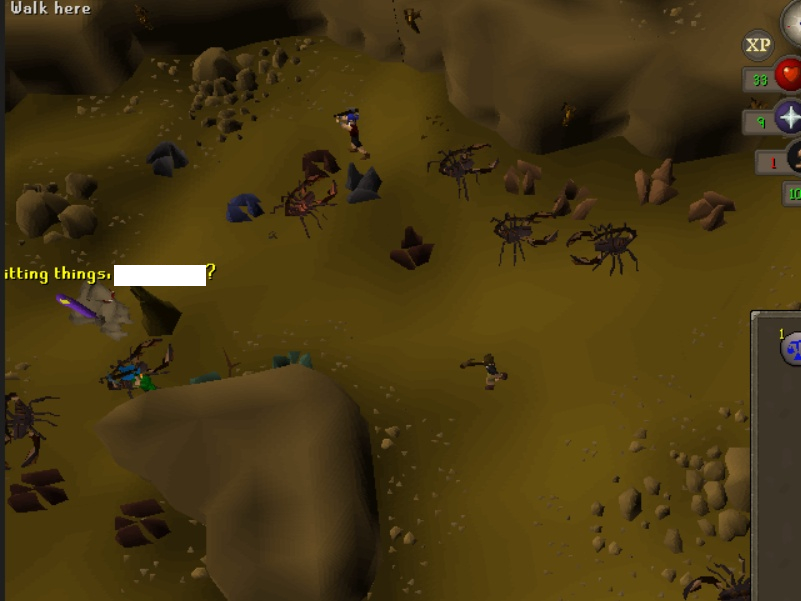adamant: (264, 343, 317, 373)
copper: (686, 178, 739, 236), (632, 154, 680, 216), (549, 176, 600, 222), (499, 153, 550, 199)
iron: (112, 493, 175, 553), (8, 463, 72, 516), (386, 218, 438, 276), (296, 144, 344, 181)
mithril: (225, 185, 269, 225)
